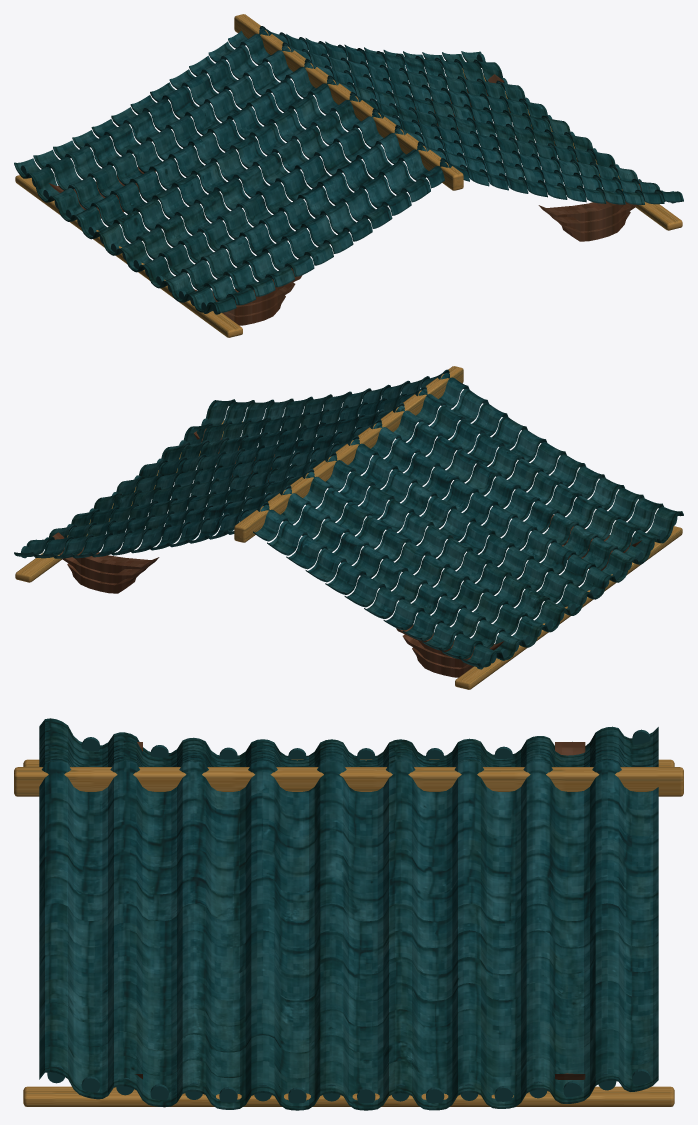
The model's file is R71-03-SOURCE-DERIVED-B-CC0-PBR-ROOF-OPTIMIZED.glb.
3 views of the same model, one above another, from view 1: azimuth 30°, elevation 25°; view 2: azimuth 150°, elevation 25°; view 3: azimuth 270°, elevation 25° (orthographic). The views are drawn at different scales.
Parts seen in each view (by area): view 1: R71_03_B_LOW_DRAW_CALLS_R70_B_PBR_AGED_tile_PHYSICAL_MAPS, R71_03_B_LOW_DRAW_CALLS_R70_B_PBR_AGED_gold_PHYSICAL_MAPS, R71_03_B_LOW_DRAW_CALLS_R70_B_PBR_AGED_wood_PHYSICAL_MAPS; view 2: R71_03_B_LOW_DRAW_CALLS_R70_B_PBR_AGED_tile_PHYSICAL_MAPS, R71_03_B_LOW_DRAW_CALLS_R70_B_PBR_AGED_gold_PHYSICAL_MAPS, R71_03_B_LOW_DRAW_CALLS_R70_B_PBR_AGED_wood_PHYSICAL_MAPS; view 3: R71_03_B_LOW_DRAW_CALLS_R70_B_PBR_AGED_tile_PHYSICAL_MAPS, R71_03_B_LOW_DRAW_CALLS_R70_B_PBR_AGED_gold_PHYSICAL_MAPS, R71_03_B_LOW_DRAW_CALLS_R70_B_PBR_AGED_wood_PHYSICAL_MAPS.
Part boxes in pixels (box(x1,y1,x2,y2)): R71_03_B_LOW_DRAW_CALLS_R70_B_PBR_AGED_tile_PHYSICAL_MAPS: box(14, 26, 683, 314); R71_03_B_LOW_DRAW_CALLS_R70_B_PBR_AGED_gold_PHYSICAL_MAPS: box(15, 14, 682, 337); R71_03_B_LOW_DRAW_CALLS_R70_B_PBR_AGED_wood_PHYSICAL_MAPS: box(49, 74, 649, 325); R71_03_B_LOW_DRAW_CALLS_R70_B_PBR_AGED_tile_PHYSICAL_MAPS: box(14, 369, 683, 669); R71_03_B_LOW_DRAW_CALLS_R70_B_PBR_AGED_gold_PHYSICAL_MAPS: box(15, 366, 682, 689); R71_03_B_LOW_DRAW_CALLS_R70_B_PBR_AGED_wood_PHYSICAL_MAPS: box(52, 428, 641, 677); R71_03_B_LOW_DRAW_CALLS_R70_B_PBR_AGED_tile_PHYSICAL_MAPS: box(39, 718, 658, 1110); R71_03_B_LOW_DRAW_CALLS_R70_B_PBR_AGED_gold_PHYSICAL_MAPS: box(14, 759, 683, 1106); R71_03_B_LOW_DRAW_CALLS_R70_B_PBR_AGED_wood_PHYSICAL_MAPS: box(135, 742, 585, 1079).
Size of the model in its own units: 13 by 3.61 by 10.6.
3 materials, 3 textured.
